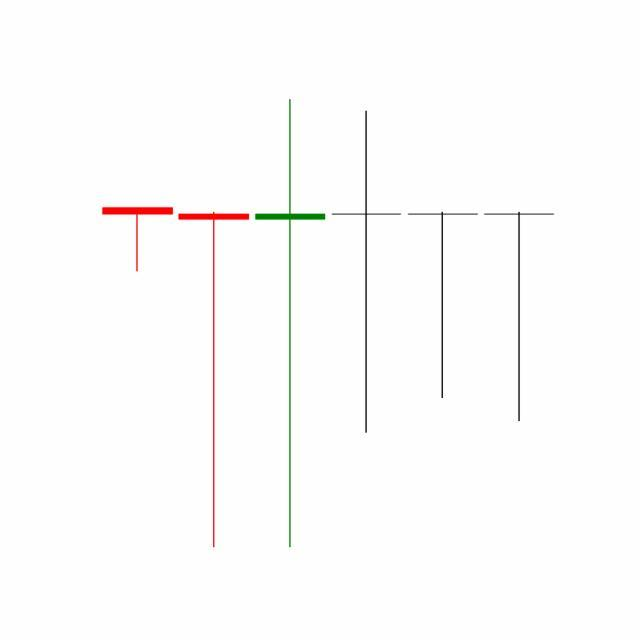Dragonfly Doji: (404, 210, 482, 401)
